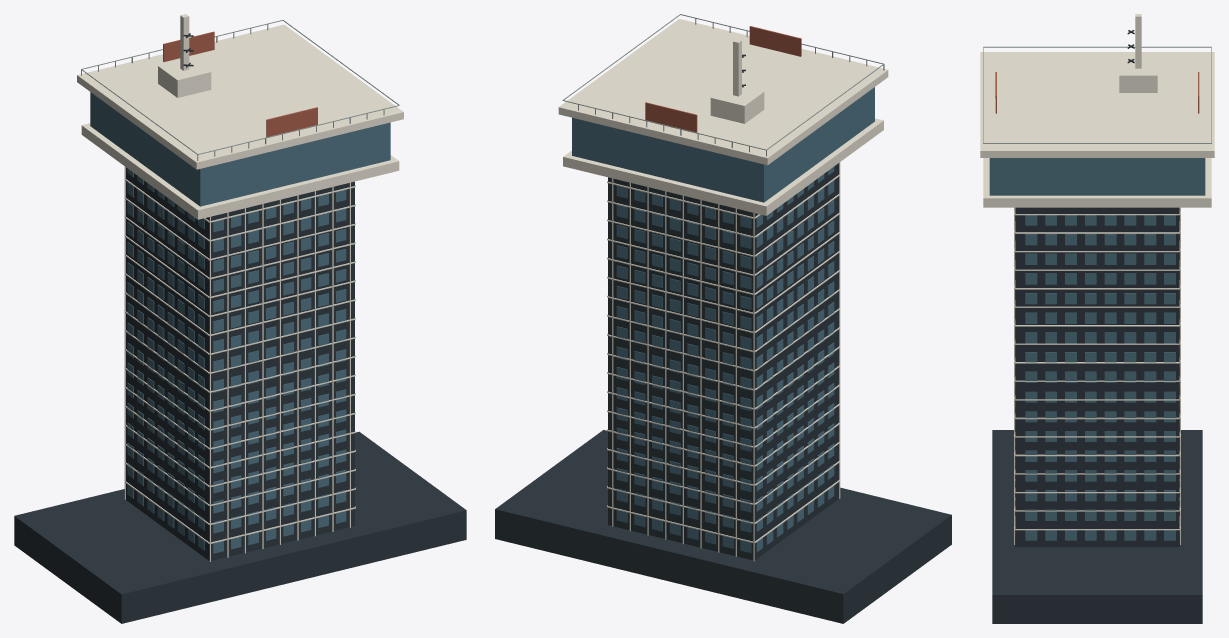
The model's file is adam-tower.glb.
The picture shows the model from 3 angles, left to right: view 1: azimuth 30°, elevation 25°; view 2: azimuth 150°, elevation 25°; view 3: azimuth 270°, elevation 25°; orthographic projection. The views are drawn at different scales.
Parts seen in each view (by area): view 1: adam-tower; view 2: adam-tower; view 3: adam-tower.
Boxes of the visible parts, x1=… form: adam-tower: x1=14, y1=14, x2=466, y2=623; adam-tower: x1=495, y1=14, x2=951, y2=623; adam-tower: x1=980, y1=14, x2=1214, y2=623.
Bounding box in the file's own units: 61.13 × 88 × 36.71.
